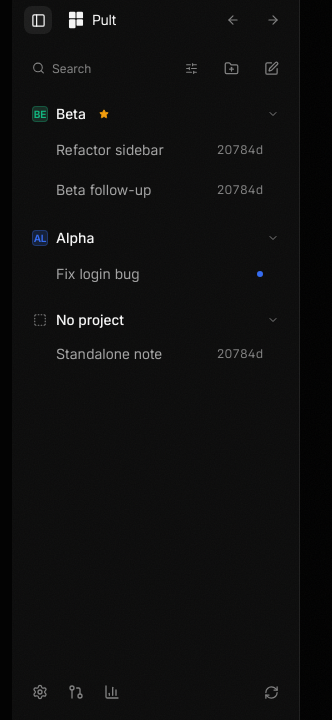
Test: Sidebar › hides a query-matched project with no unread threads when filter is 'unread' and renders it with filter 'all'
Type "beta" into the search field named "Search projects and threads" at (116, 68), box [24,52,207,84]
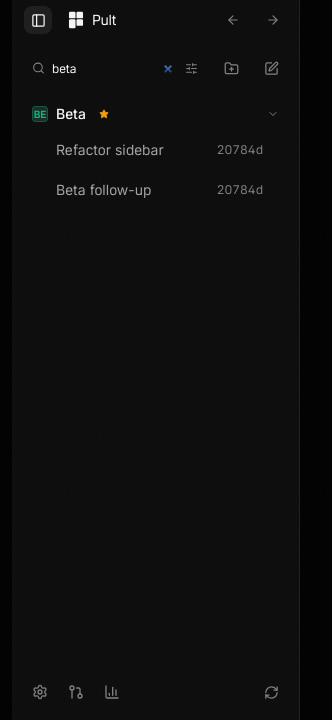
Expected: the text "Beta" is shown, [56,104,86,124]
Expected: the text "Refactor sidebar" is shown, [56,140,164,160]
Click the button named "Filter threads" at (191, 68), box [179,56,203,80]
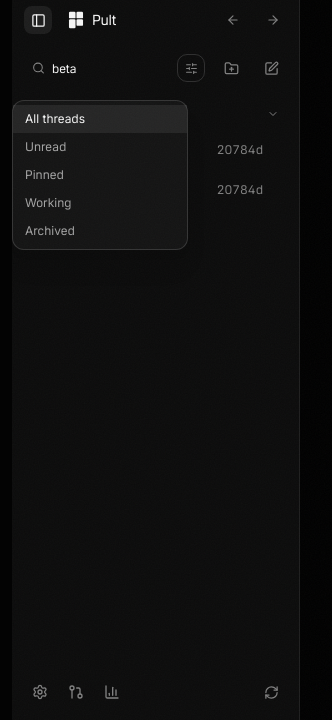
Click the menu item "Unread" at (100, 147), box [13,133,187,161]
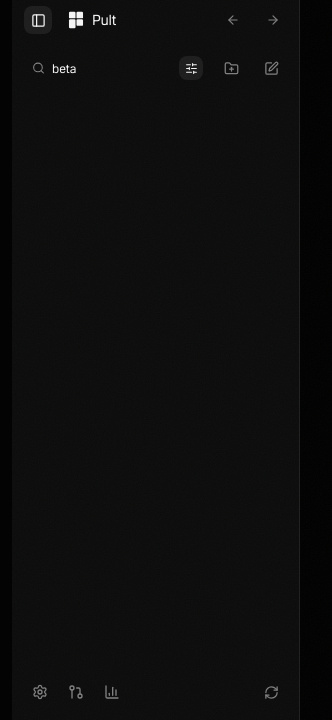
Expected: the link "Refactor sidebar" is gone
Expected: the link "Beta follow-up" is gone
Click the button named "Filter threads" at (191, 68), box [179,56,203,80]
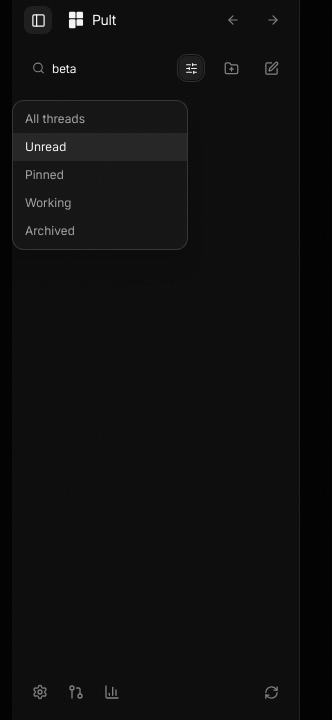
Click the menu item "All threads" at (100, 119), box [13,105,187,133]
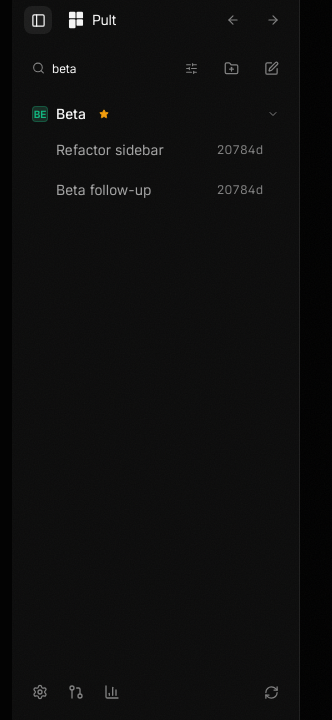
Expected: the text "Beta" is shown, [56,104,86,124]
Expected: the text "Refactor sidebar" is shown, [56,140,164,160]
Expected: the text "Beta follow-up" is shown, [56,180,151,200]
